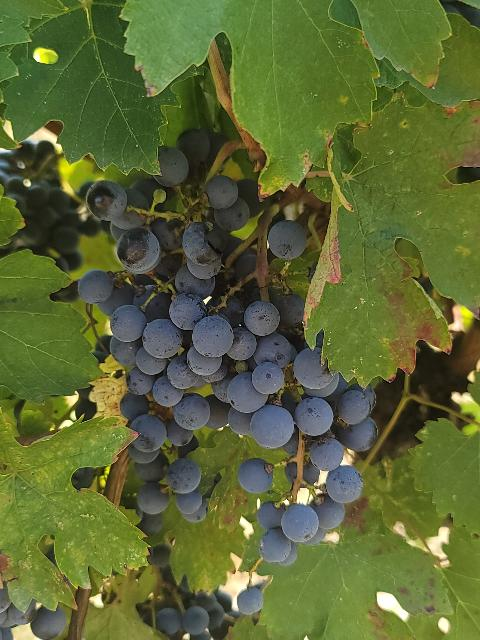grapes: (79, 180, 250, 521), (224, 295, 376, 560)
